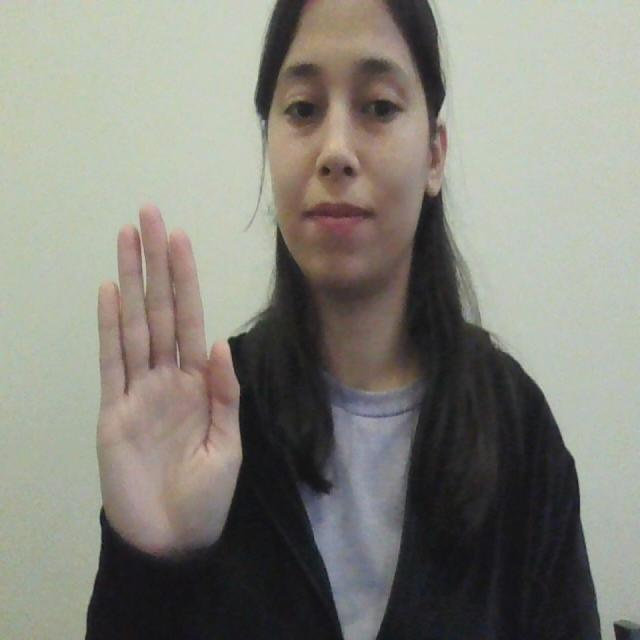Dur: (70, 188, 255, 566)
